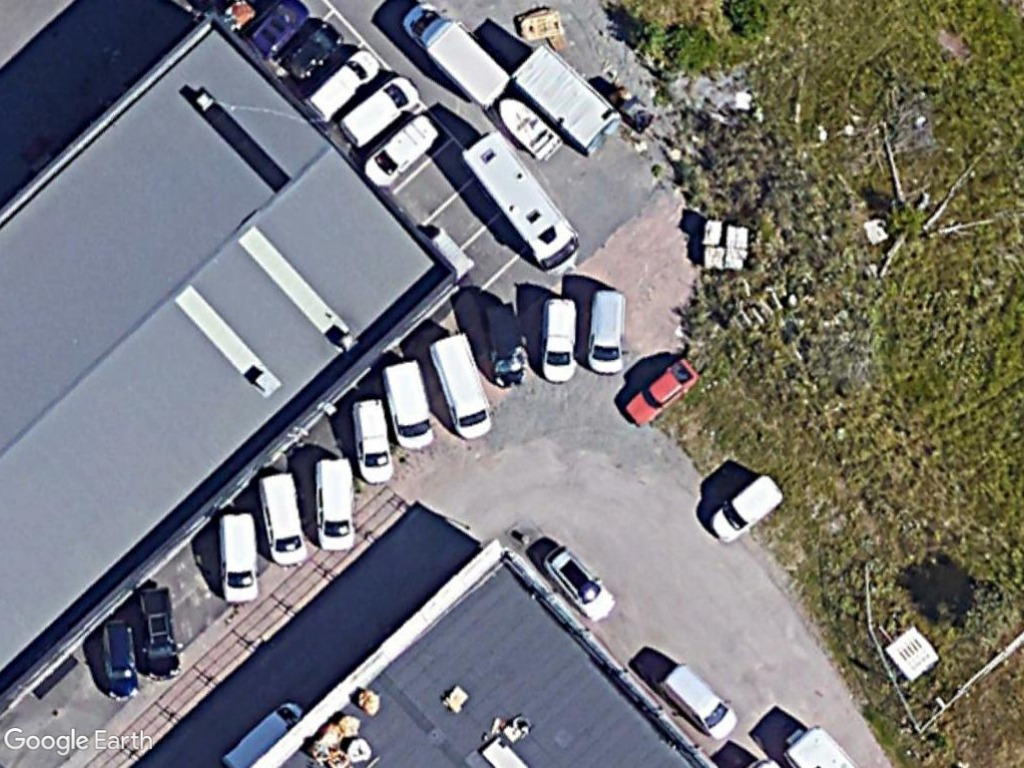boat: (495, 93, 567, 163)
bus: (455, 122, 581, 283)
car: (540, 542, 620, 627), (622, 356, 703, 433), (281, 22, 352, 86), (99, 613, 147, 706)
van: (427, 328, 499, 443), (657, 661, 741, 745), (304, 47, 385, 128), (363, 111, 443, 192), (705, 473, 792, 547), (336, 77, 421, 150), (255, 470, 310, 569), (380, 359, 436, 455), (479, 298, 535, 392), (214, 509, 263, 609), (311, 457, 360, 556), (349, 397, 399, 488), (583, 287, 630, 379), (539, 294, 581, 386)
